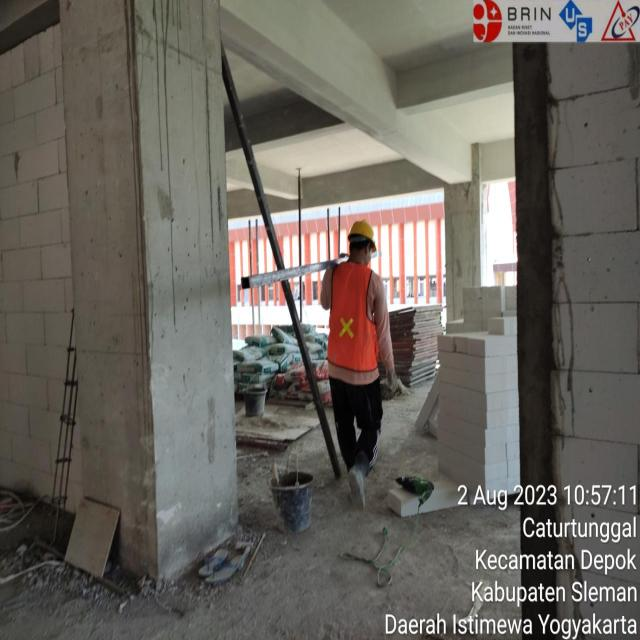Helmet: (340, 208, 388, 270)
Safety Vest: (321, 250, 391, 398)
